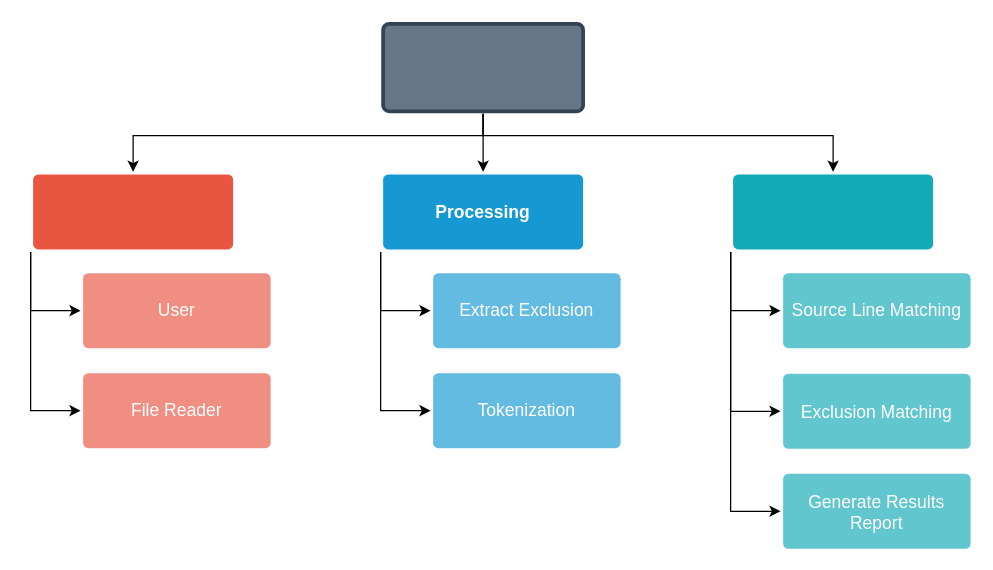
Image size: 993x570. Some labels were removed from this diagram. The centre of each missing label's shape, as x and y in pixels:
"Plagiarism Detection" belongs at pixel 832 211.
"Preparation" belongs at pixel 132 211.
"System Phase" belongs at pixel 482 66.
